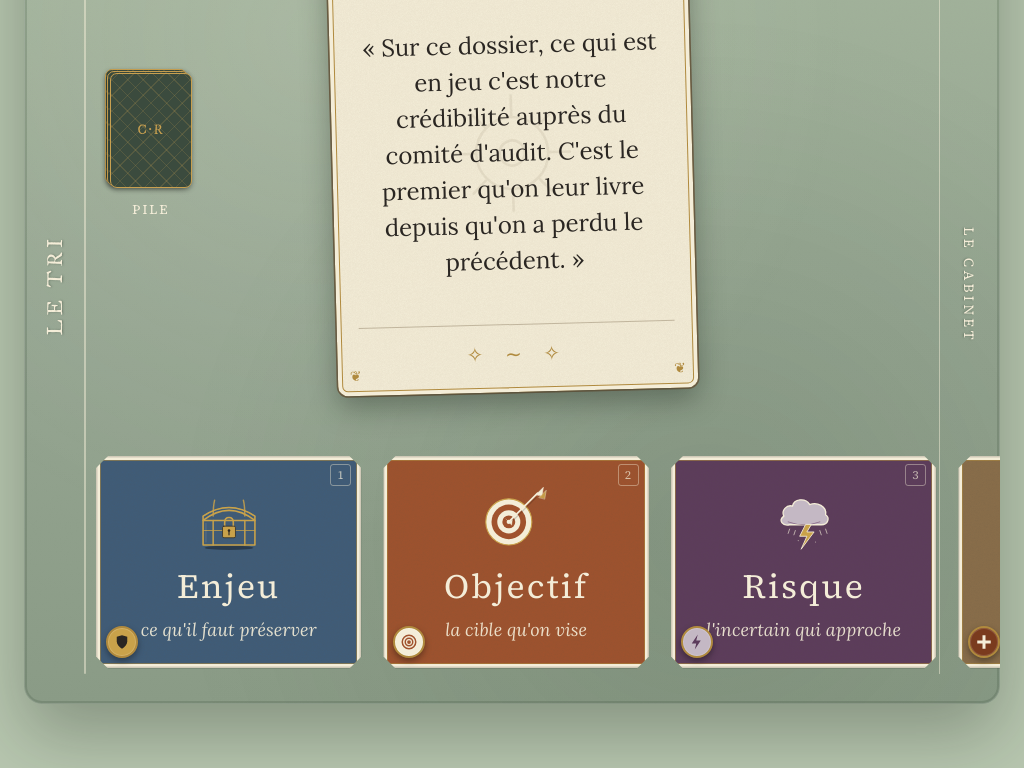
Test: TriBoard — Le Tri › affiche un verdict explicite après une réponse
(page scrolled)
Click the button with aria-label "Classer comme Enjeu" at (229, 562), box [96, 456, 362, 668]
(page scrolled)
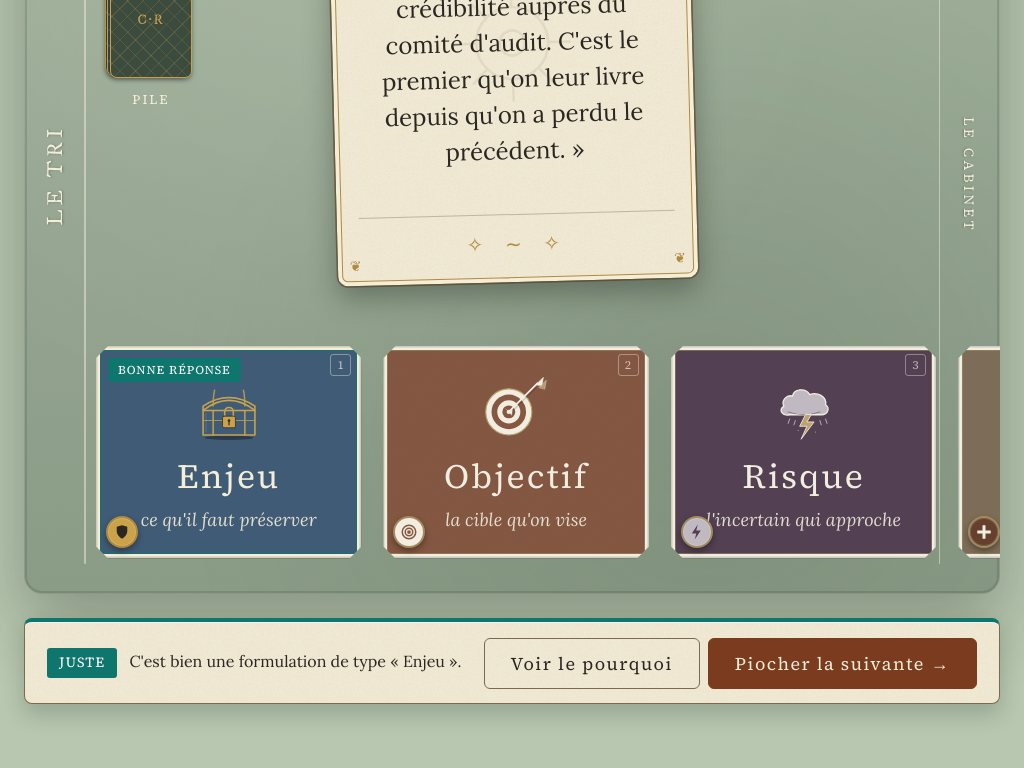
Expected: the text "Juste" is shown, [47, 648, 117, 678]
